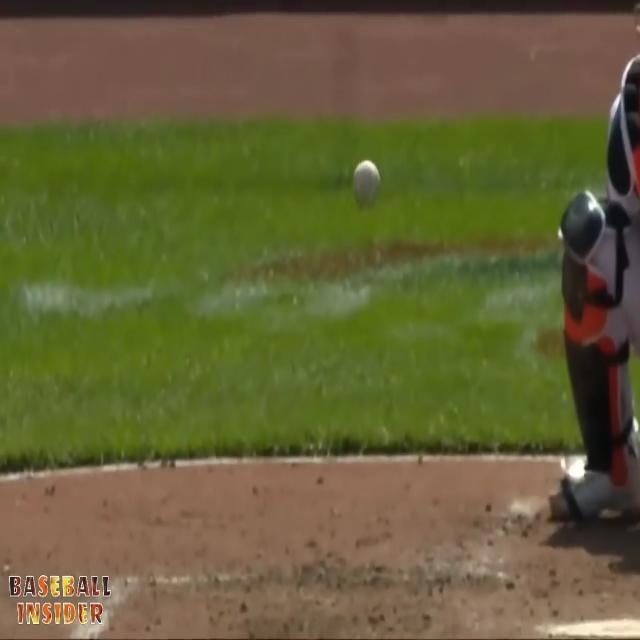baseball: (352, 159, 381, 210)
